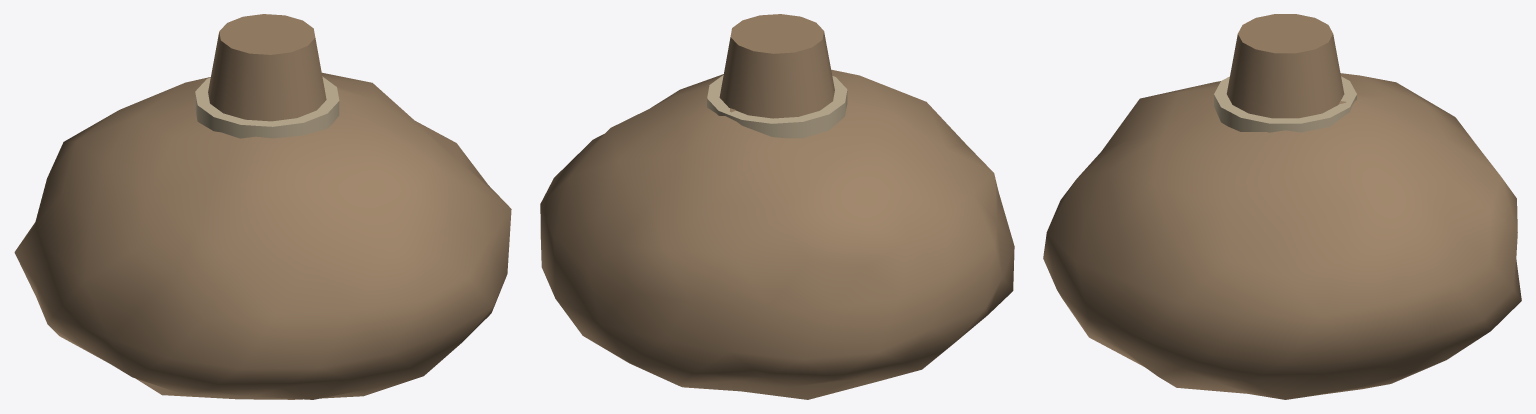
File: sack.glb
3 views of the same model, side by side, from view 1: azimuth 30°, elevation 25°; view 2: azimuth 150°, elevation 25°; view 3: azimuth 270°, elevation 25° (orthographic). The views are drawn at different scales.
Visible parts, largest first — view 1: Sack, neck, tie; view 2: Sack, neck, tie; view 3: Sack, neck, tie.
Boxes of the visible parts, left/top/right/bottom form: Sack: left=14, top=72, right=511, bottom=399; neck: left=208, top=14, right=326, bottom=121; tie: left=195, top=76, right=339, bottom=138; Sack: left=540, top=69, right=1014, bottom=399; neck: left=719, top=14, right=834, bottom=118; tie: left=707, top=75, right=847, bottom=138; Sack: left=1043, top=73, right=1521, bottom=399; neck: left=1226, top=14, right=1344, bottom=118; tie: left=1214, top=76, right=1356, bottom=132.
Size of the model in its own units: 0.5105 by 0.3738 by 0.5018.
